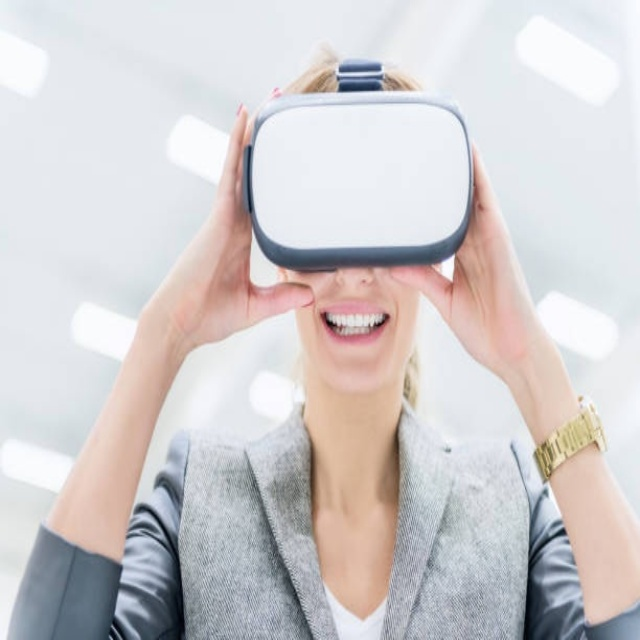Sin_guantes: (162, 99, 316, 359), (398, 136, 543, 381)
Sin_mascara: (315, 296, 391, 376)
